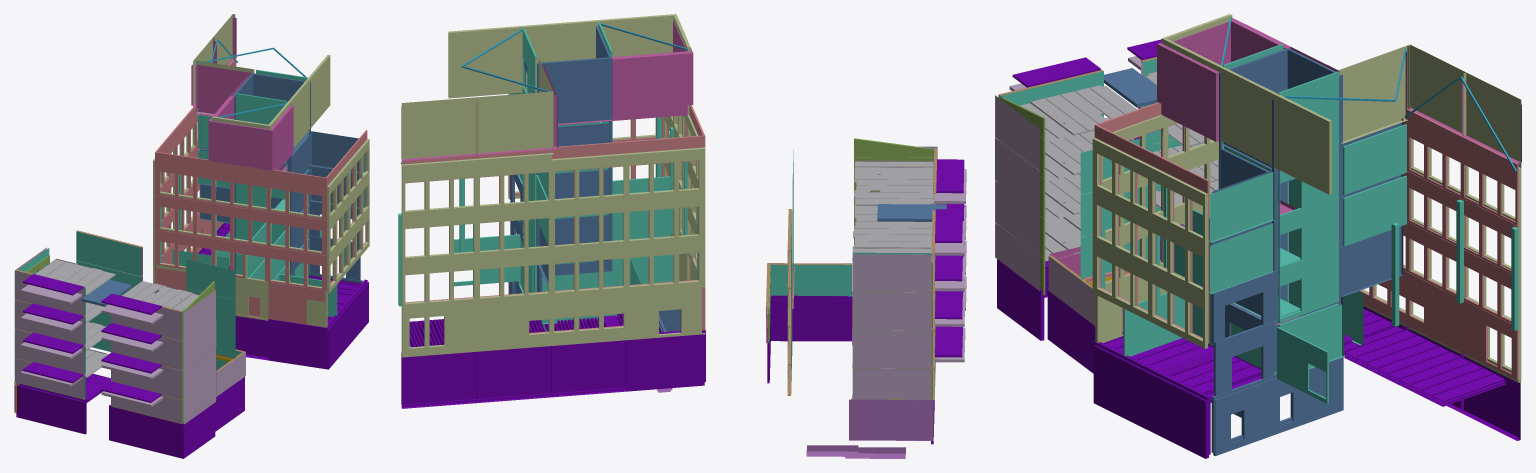
3 renders of one model, left to right at view 1: azimuth 30°, elevation 25°; view 2: azimuth 150°, elevation 25°; view 3: azimuth 270°, elevation 25°, orthographic. The views are drawn at different scales.
Size of the model in its own units: 41.84 by 30.03 by 37.28.
